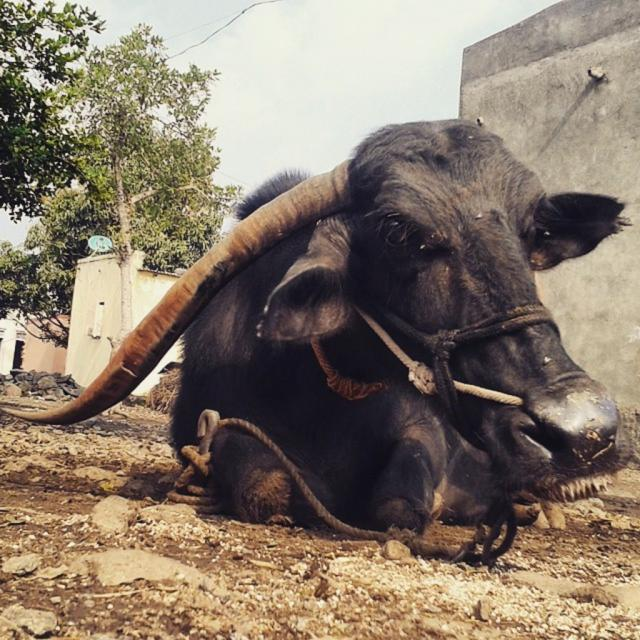Cattle: (0, 121, 635, 536)
